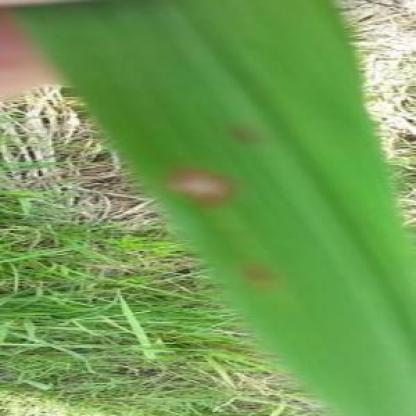Rice blast: (152, 159, 241, 212)
